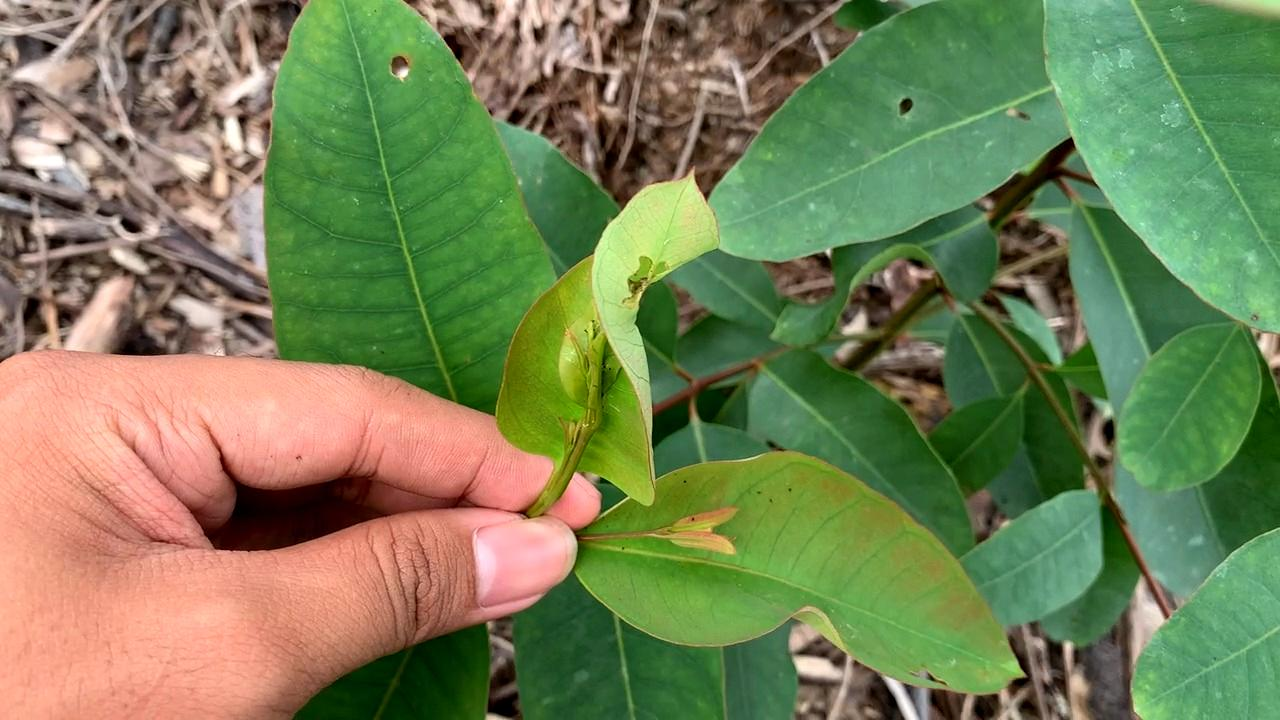Leaf Roller - Leaf: (500, 172, 714, 508)
